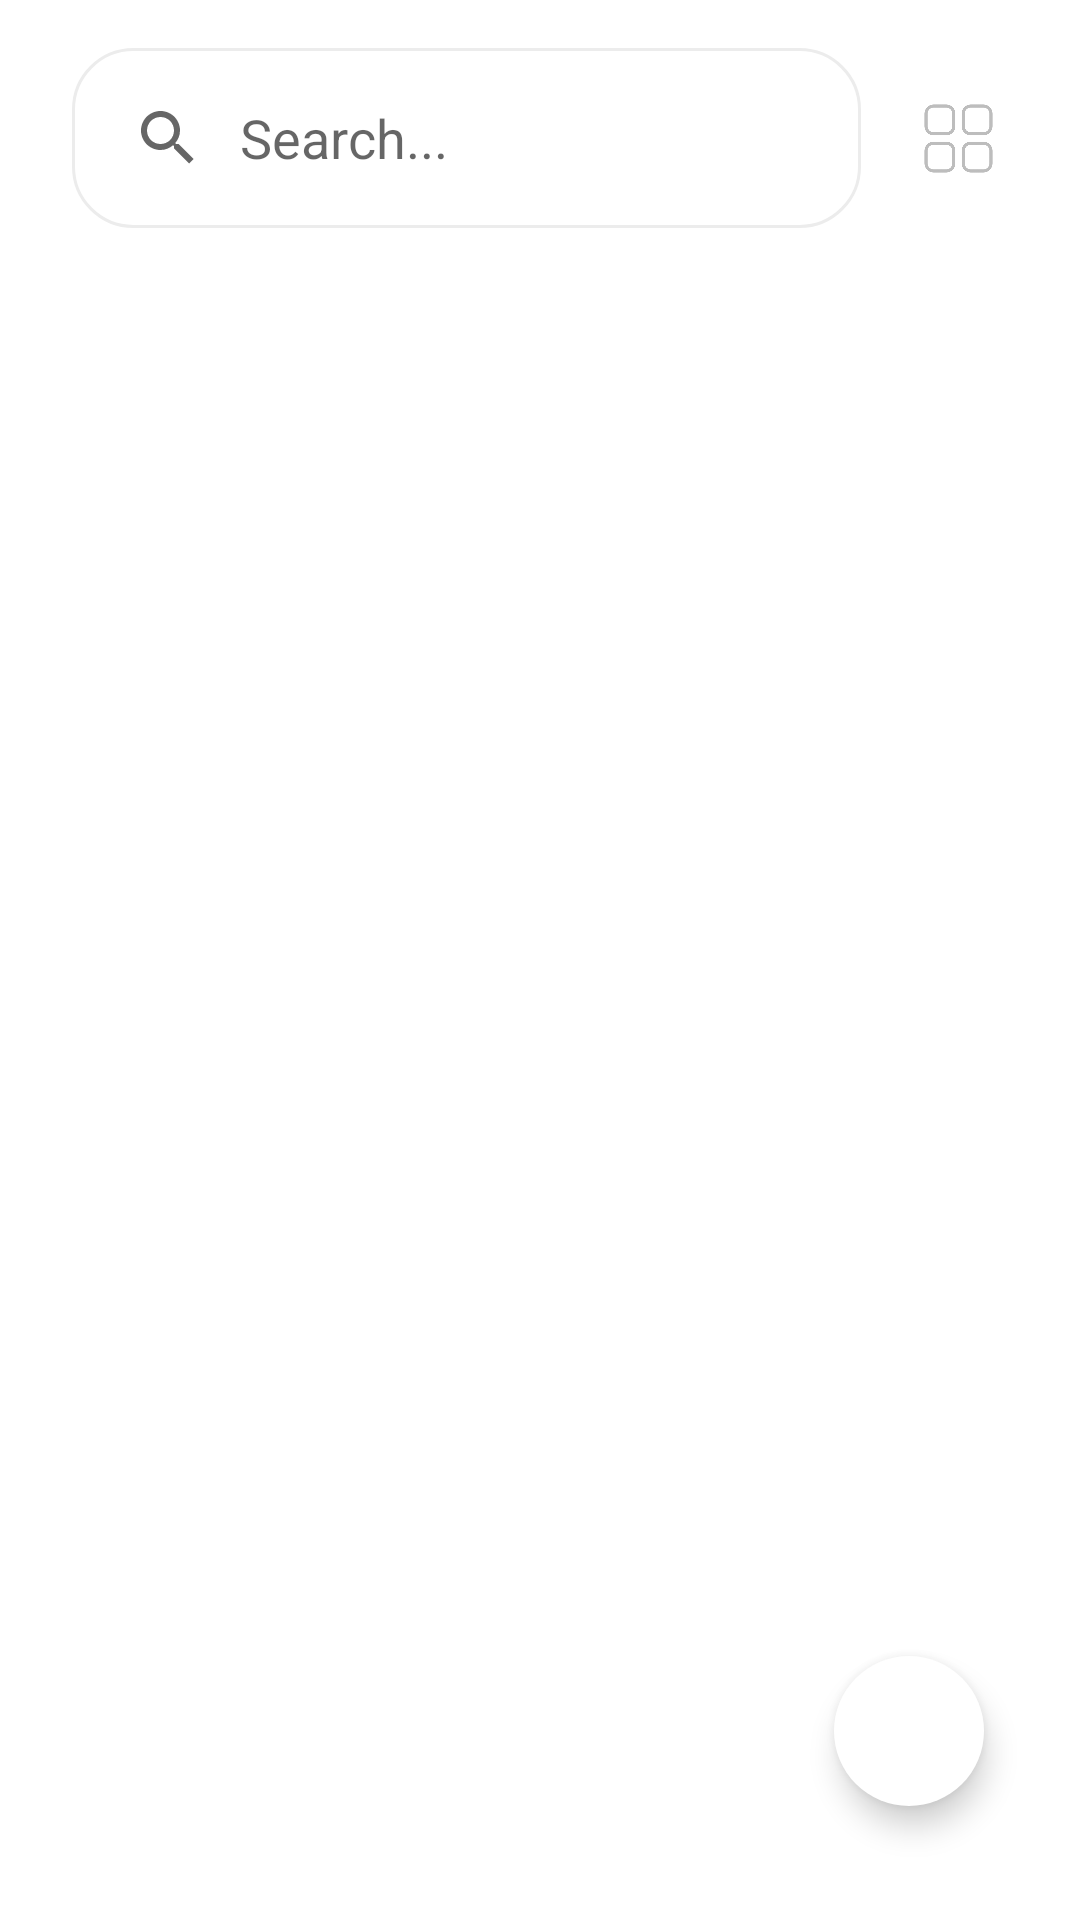

Locate icon controls on the screen. Image size 1080 × 1920, boxes as (x1,y1,x2,y2).
grid: (924,104,993,173)
